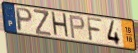4: (106, 19, 121, 47)
F: (86, 16, 103, 43)
H: (50, 11, 71, 40)
P: (15, 6, 34, 33), (68, 14, 86, 40)
Z: (33, 9, 52, 37)
